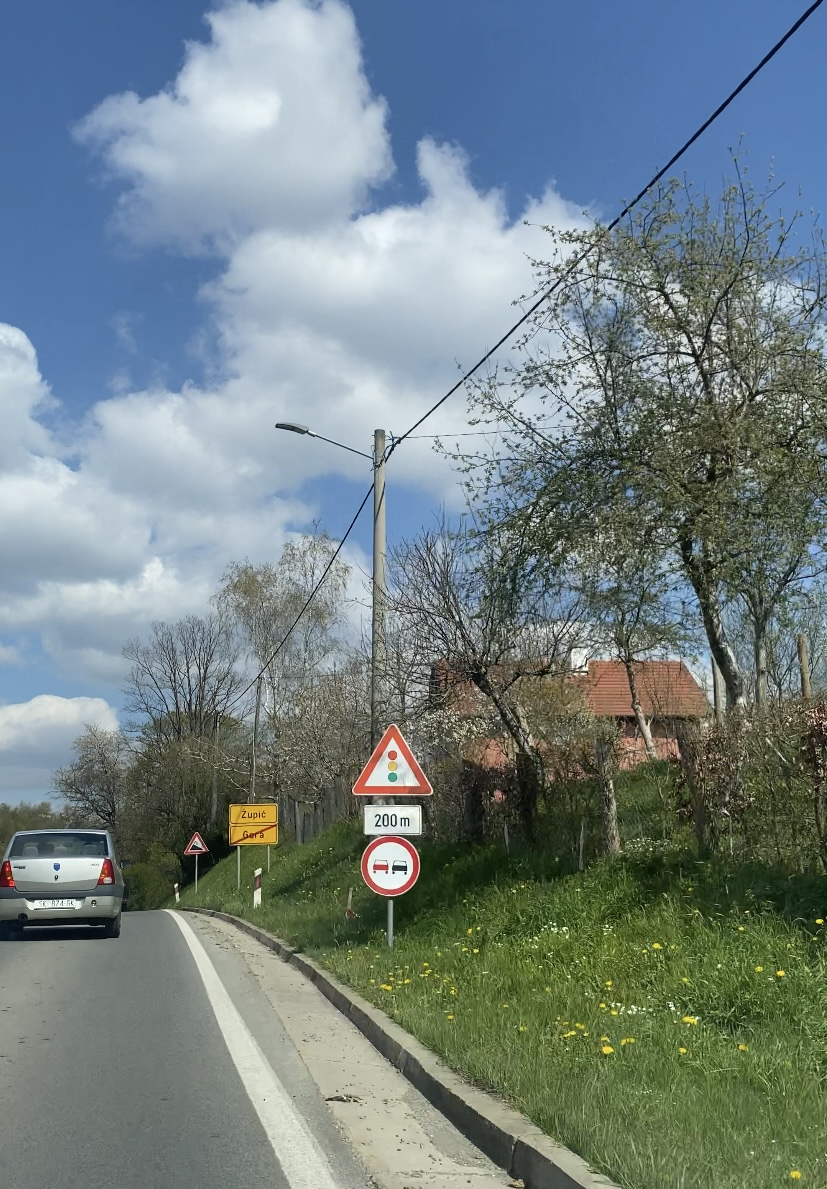Zabrana pretjecanja: (361, 835, 421, 897)
